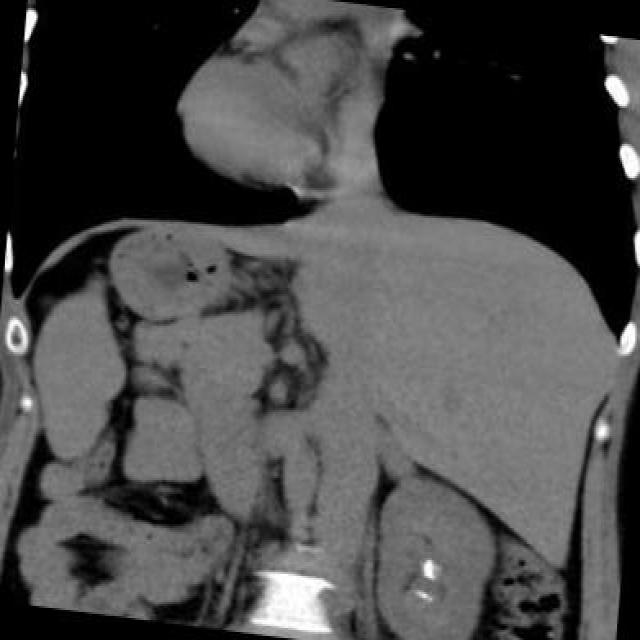Tas_Var: (418, 563, 436, 581), (418, 591, 426, 601), (413, 588, 420, 596), (425, 558, 431, 564), (425, 595, 431, 601)
